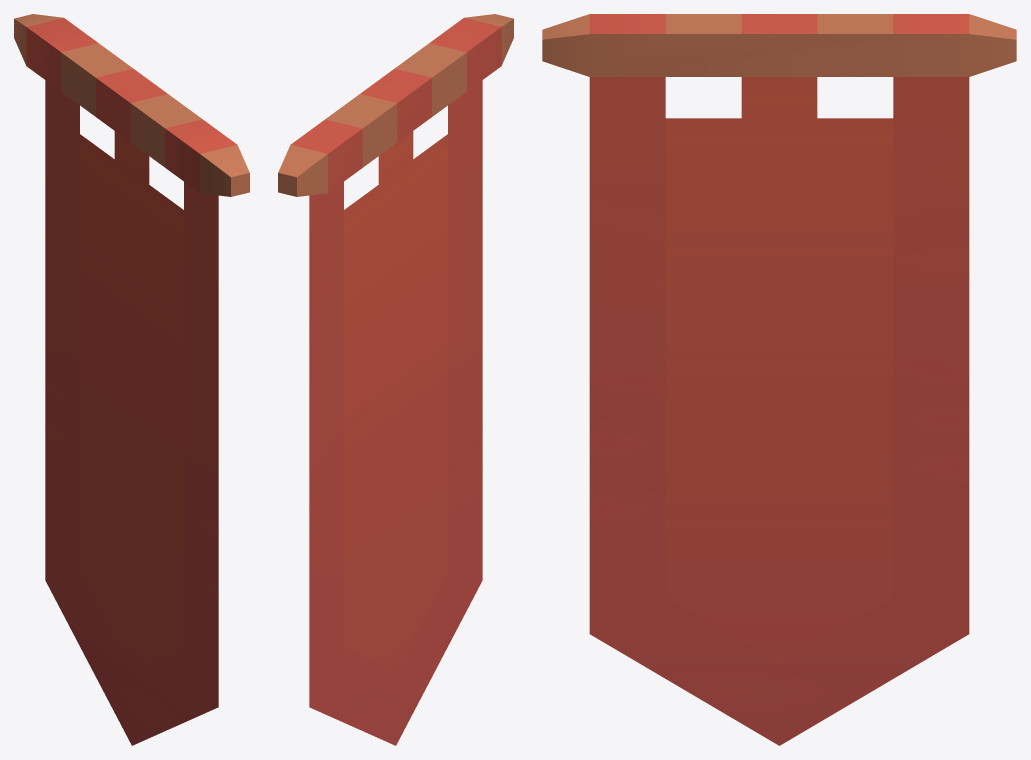
File: bannerRed.fbx
3 renders of one model, left to right at view 1: azimuth 30°, elevation 25°; view 2: azimuth 150°, elevation 25°; view 3: azimuth 270°, elevation 25°, orthographic. The views are drawn at different scales.
Parts seen in each view (by area): view 1: bannerRed; view 2: bannerRed; view 3: bannerRed.
Part boxes in pixels (left/top/right/bottom): bannerRed: left=14, top=14, right=249, bottom=745; bannerRed: left=278, top=14, right=513, bottom=745; bannerRed: left=542, top=14, right=1016, bottom=745.
Size of the model in its own units: 0.05 by 0.5 by 0.8394.
